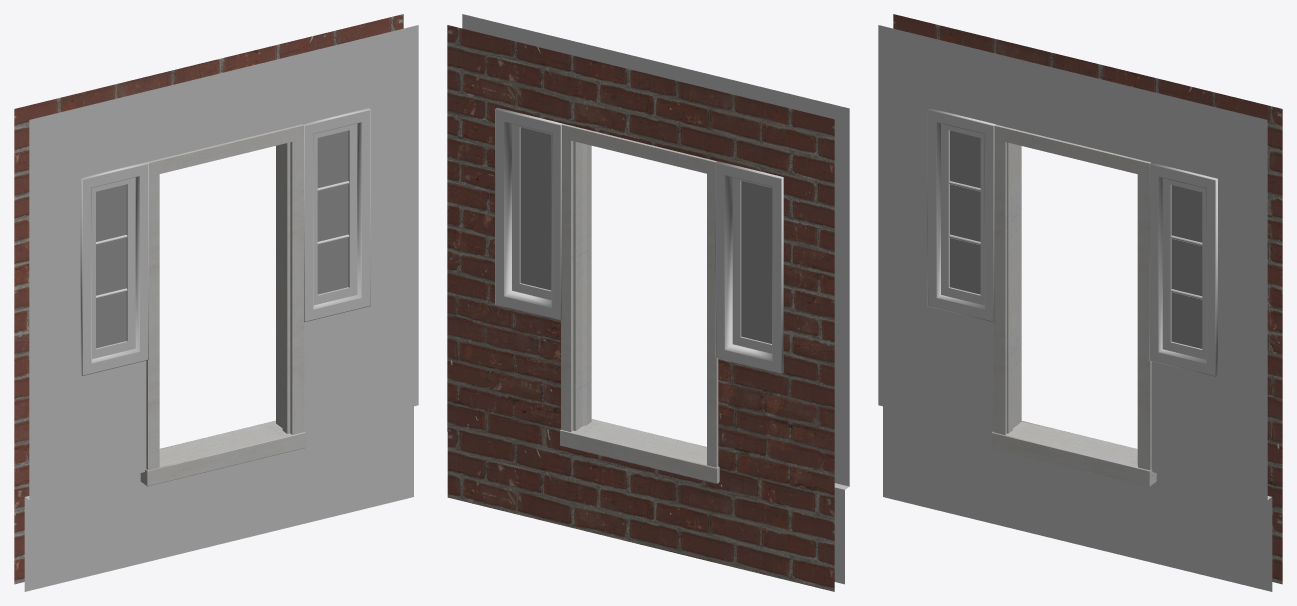
Rendered from In_Wall_Door_Single_B_3x.FBX.
3 renders of one model, left to right at view 1: azimuth 30°, elevation 25°; view 2: azimuth 150°, elevation 25°; view 3: azimuth 330°, elevation 25°, orthographic.
Visible parts, largest first — view 1: Wall_Door_Single_B_3x; view 2: Wall_Door_Single_B_3x; view 3: Wall_Door_Single_B_3x.
Part boxes in pixels (left/top/right/bottom): Wall_Door_Single_B_3x: left=14, top=14, right=418, bottom=591; Wall_Door_Single_B_3x: left=447, top=14, right=849, bottom=591; Wall_Door_Single_B_3x: left=878, top=14, right=1282, bottom=591.
Size of the model in its own units: 300 by 350 by 26.39.
